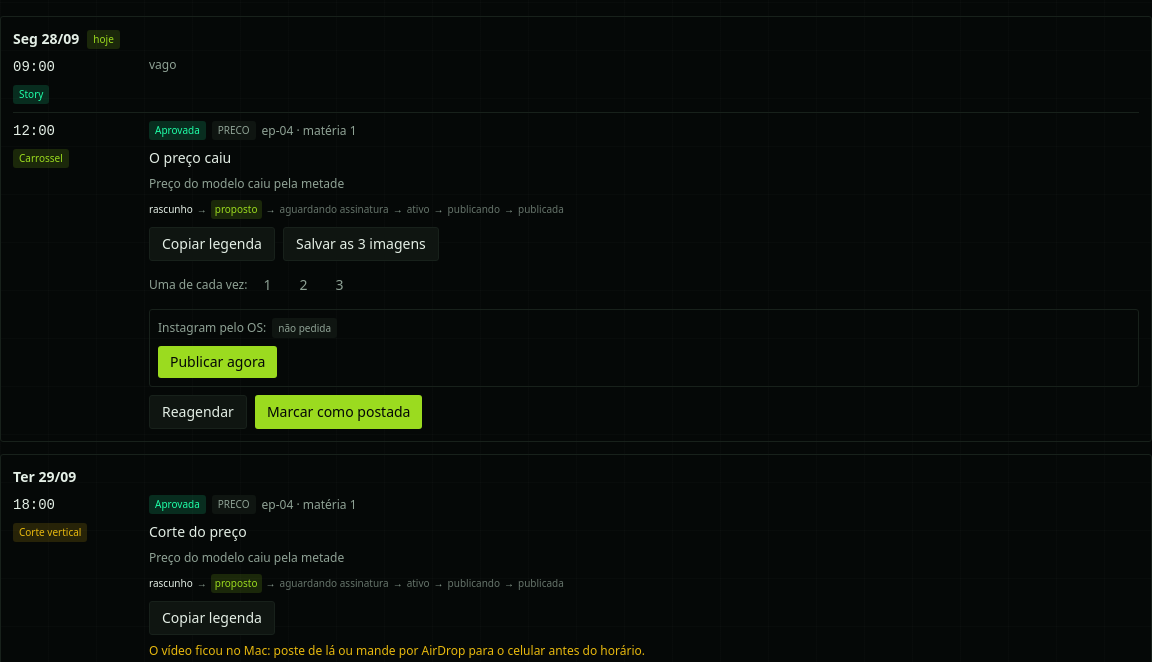
Test: a aba Semana › marca como postada: o link é opcional e só https; a postada mostra quando e pede o link que faltou
(page scrolled)
Click the button "Marcar como postada": click(339, 412) top-left (255, 395), bottom-right (422, 429)
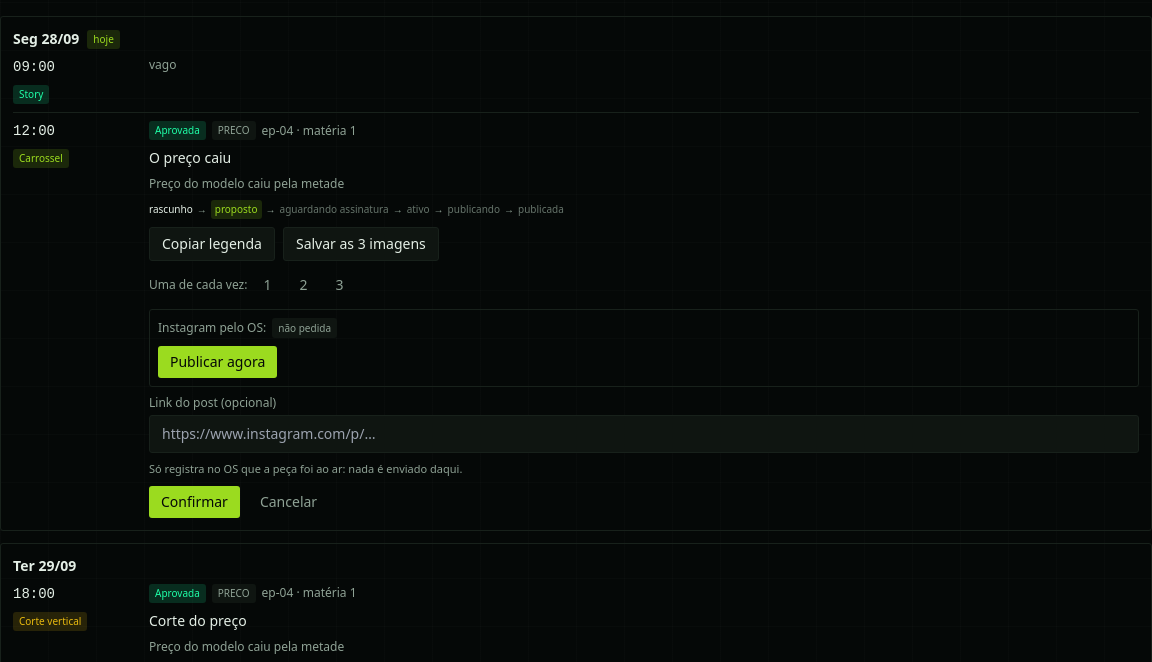
Expected: the element named "Carrossel de ep-04" shows "nada é enviado daqui", top-left (149, 461), bottom-right (462, 476)
In the field labelled "Link do post (opcional)": (644, 434) top-left (149, 415), bottom-right (1139, 453), type "http://www.instagram.com/p/abc/"
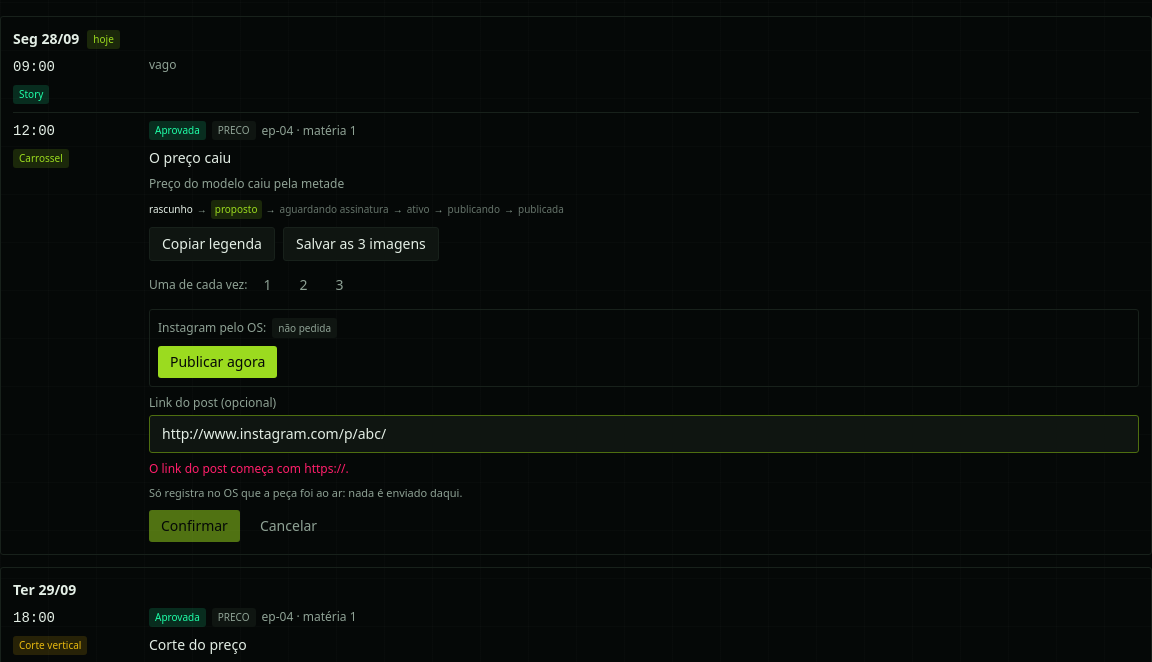
Expected: the element named "Carrossel de ep-04" shows "https://", top-left (149, 460), bottom-right (349, 477)
Expected: the button "Confirmar" is disabled, top-left (149, 510), bottom-right (240, 542)
Replace the text in the field labelled "Link do post (opcional)" with "https://www.instagram.com/p/abc/": (644, 434) top-left (149, 415), bottom-right (1139, 453)
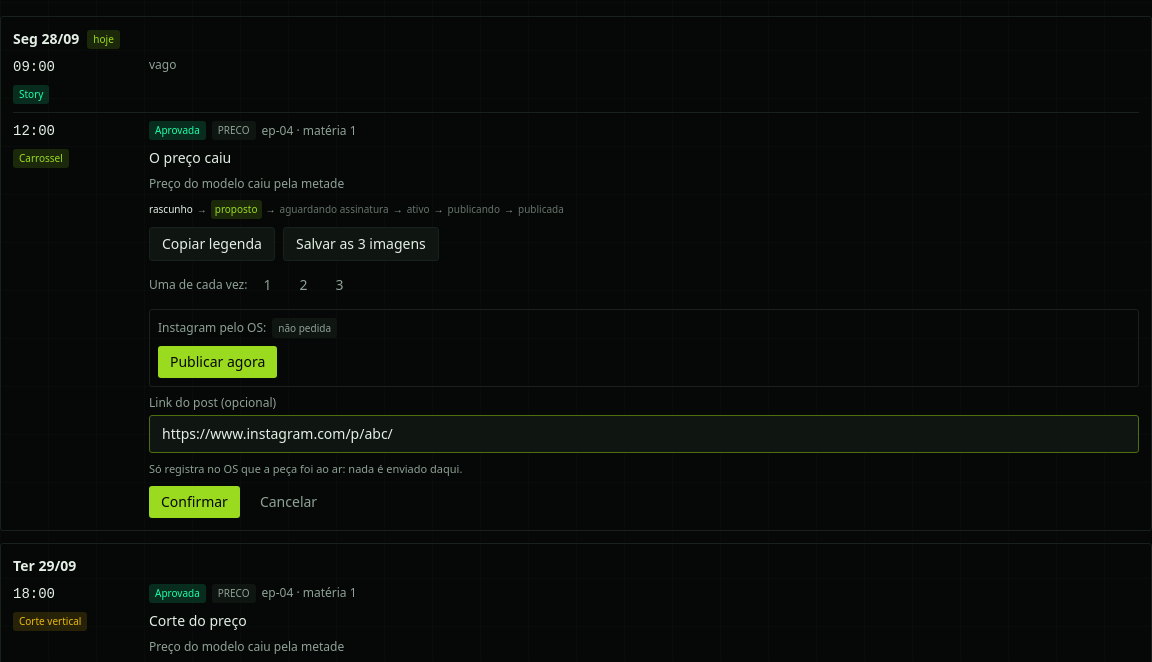
Click the button "Confirmar": click(194, 502) top-left (149, 486), bottom-right (240, 518)
(page scrolled)
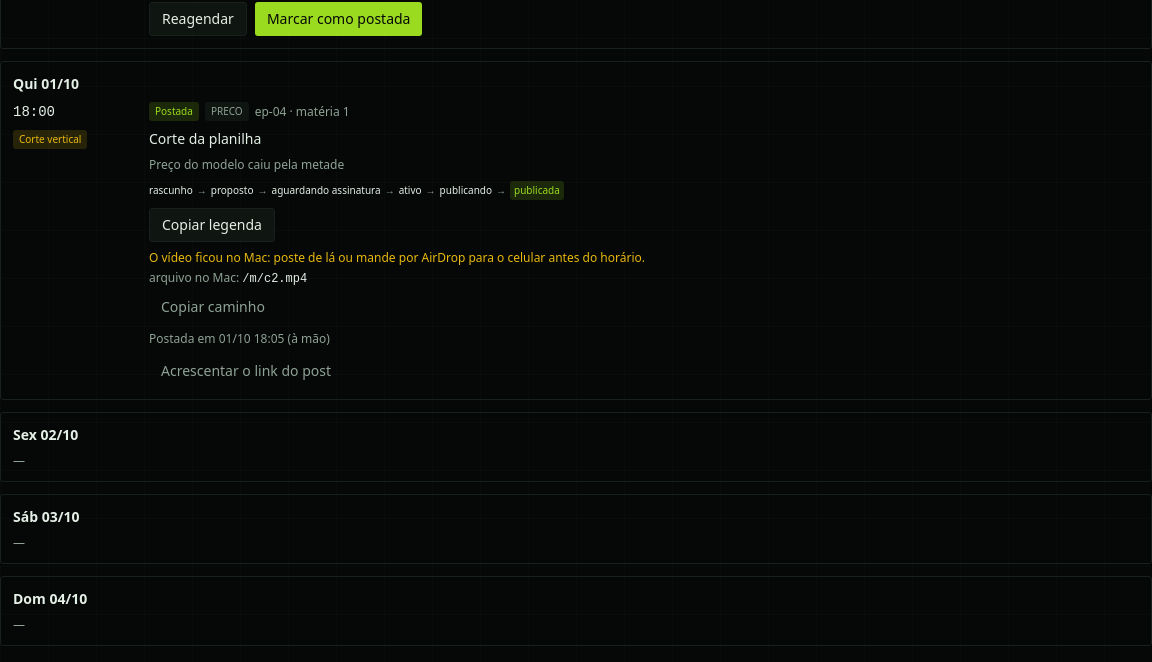
Expected: the element named "Corte vertical de ep-04" shows "Postada", top-left (155, 104), bottom-right (193, 118)
Expected: the element named "Corte vertical de ep-04" shows "Postada em 01/10 18:05 (à mão)", top-left (149, 102), bottom-right (645, 387)
Click the button "Acrescentar o link do post": click(246, 371) top-left (149, 355), bottom-right (343, 387)
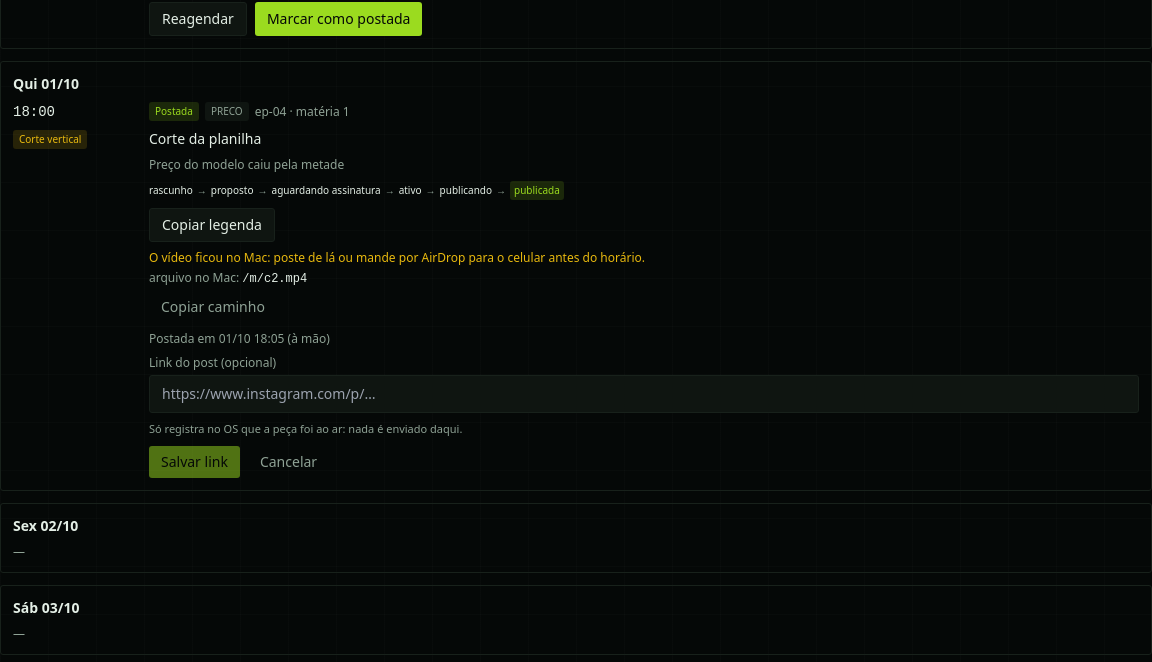
Expected: the button "Salvar link" is disabled, top-left (149, 446), bottom-right (240, 478)
